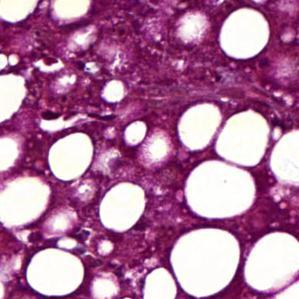steatosis: (168, 225, 240, 299), (27, 246, 86, 298), (219, 8, 269, 64), (47, 132, 94, 183)
